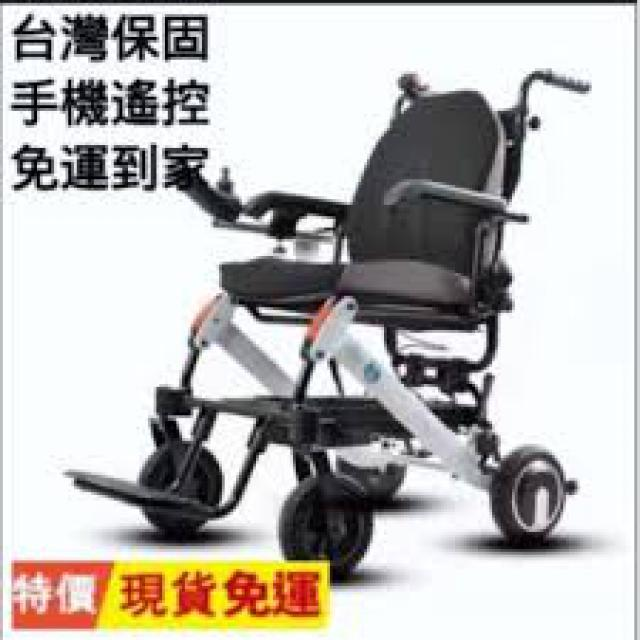wheelchair: (65, 57, 618, 566)
